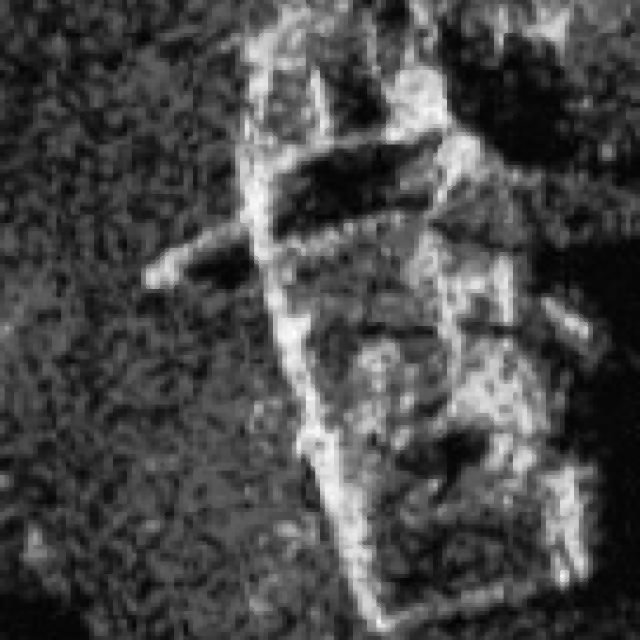Ship: (132, 4, 640, 640)
